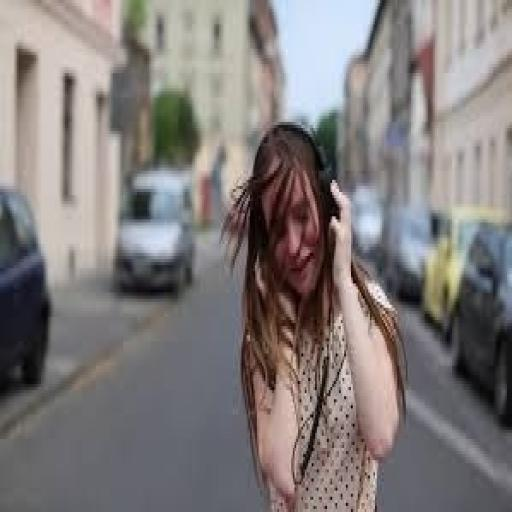listening_to_music: (219, 119, 411, 509)
